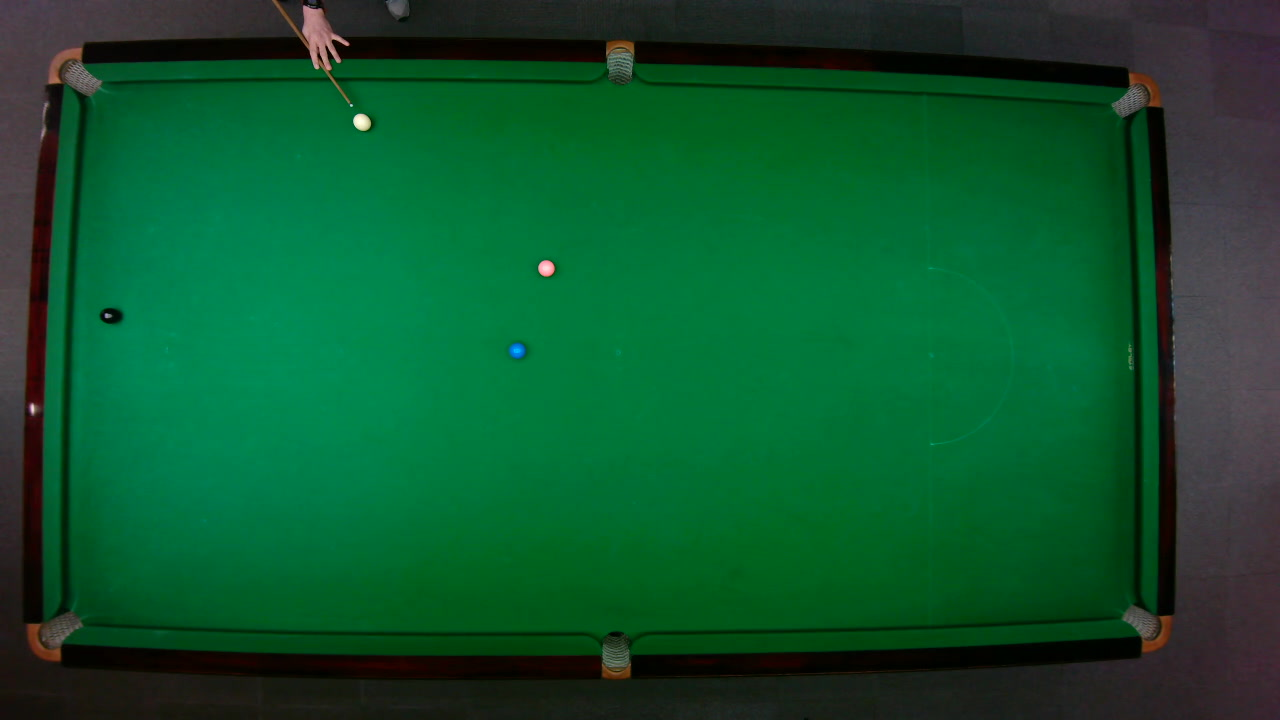bag: (25, 609, 83, 662), (45, 46, 102, 96), (1119, 603, 1172, 652), (1108, 71, 1161, 118), (600, 629, 630, 680), (605, 38, 633, 85)
black: (98, 306, 120, 324)
blue: (507, 341, 526, 358)
cue: (273, 0, 353, 106)
pink: (536, 259, 555, 277)
white: (351, 112, 372, 131)
zone: (927, 266, 1013, 445)
